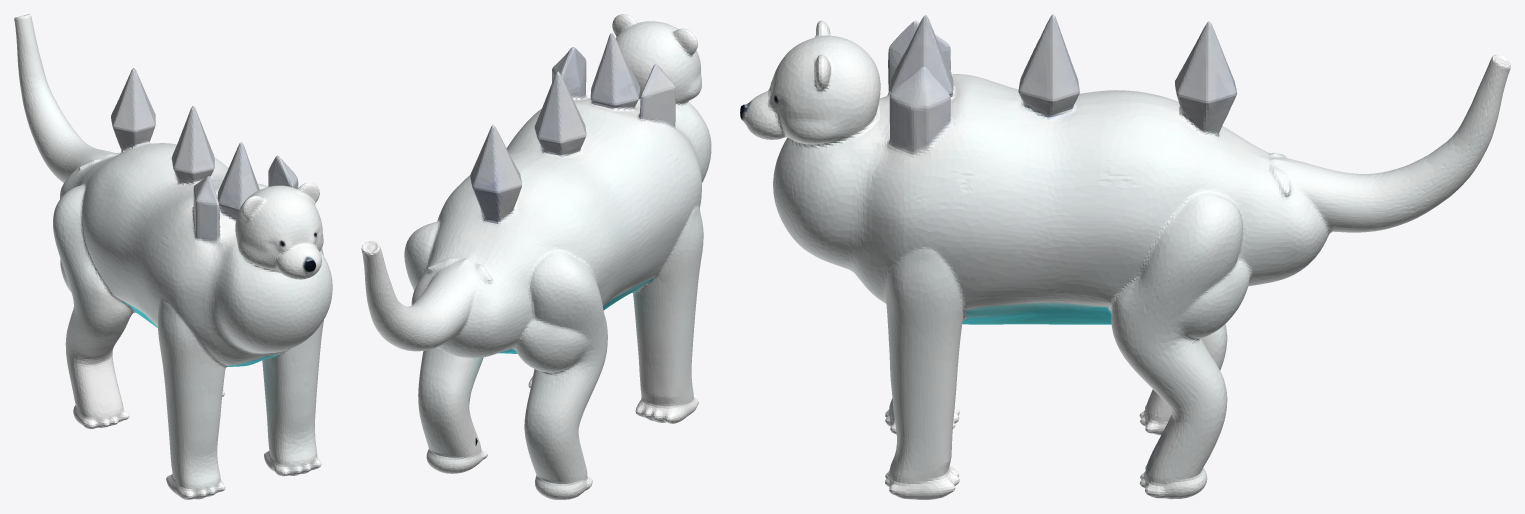
File: creature-133.glb
The picture shows the model from 3 angles, left to right: view 1: azimuth 30°, elevation 25°; view 2: azimuth 150°, elevation 25°; view 3: azimuth 270°, elevation 25°; orthographic projection. The views are drawn at different scales.
Parts seen in each view (by area): view 1: tmp1br07bvx.ply; view 2: tmp1br07bvx.ply; view 3: tmp1br07bvx.ply.
Boxes of the visible parts, x1=… form: tmp1br07bvx.ply: x1=14, y1=14, x2=332, y2=499; tmp1br07bvx.ply: x1=361, y1=14, x2=711, y2=499; tmp1br07bvx.ply: x1=740, y1=14, x2=1510, y2=499.
Bounding box in the file's own units: 0.659 × 1.28 × 1.99.
1 material, 1 textured.
